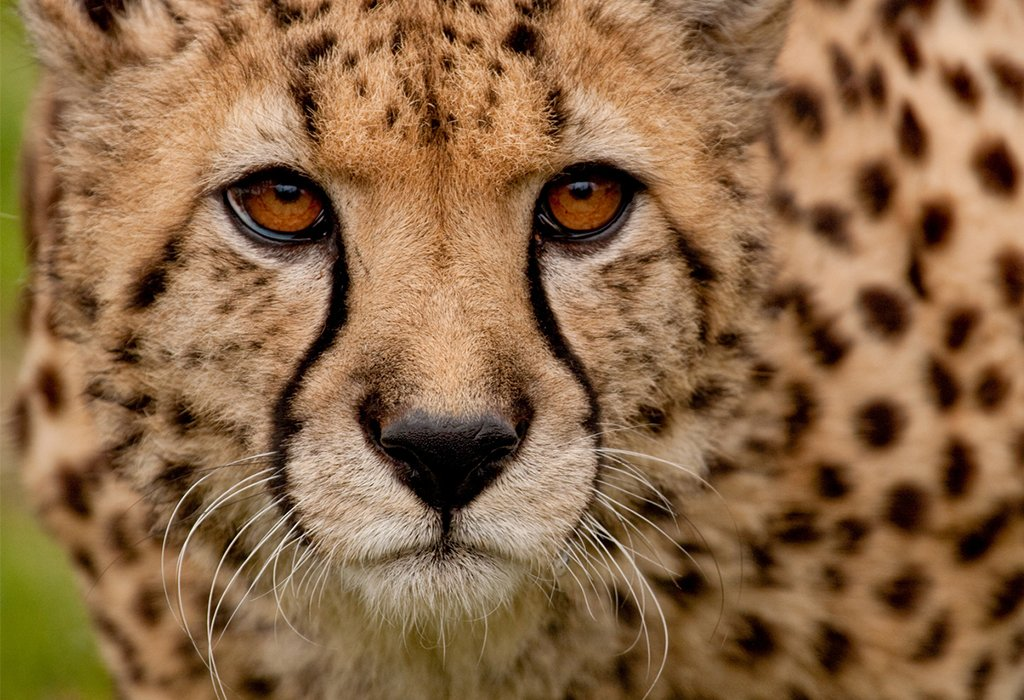cheetah: (16, 1, 806, 700)
